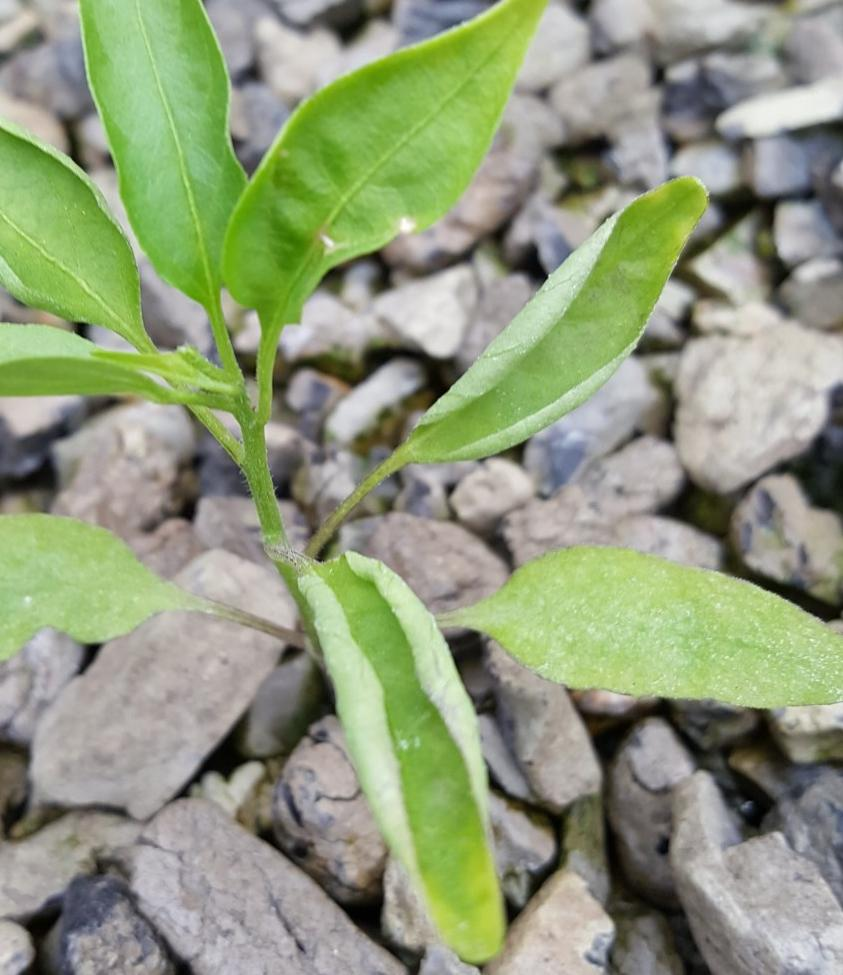Tomato leaf: (219, 0, 577, 325), (379, 166, 712, 478), (51, 0, 286, 352), (453, 536, 843, 729), (0, 506, 196, 665)
